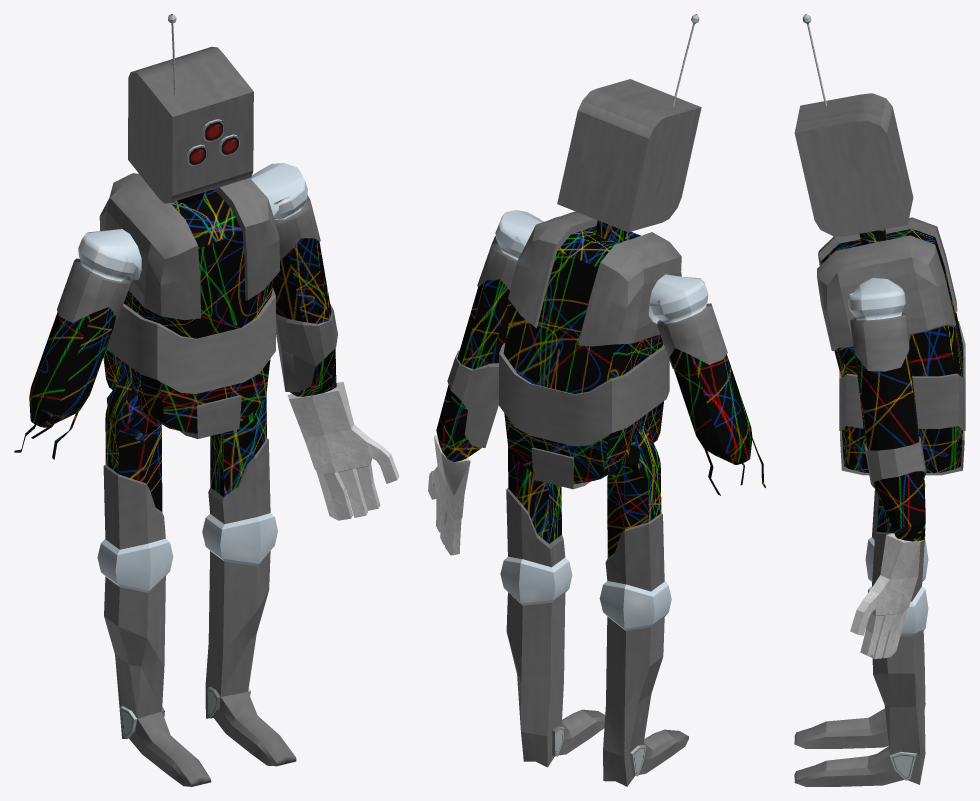
File: RobotIdle3.obj
3 views of the same model, side by side, from view 1: azimuth 30°, elevation 25°; view 2: azimuth 150°, elevation 25°; view 3: azimuth 270°, elevation 25° (orthographic). The views are drawn at different scales.
Visible parts, largest first — view 1: Robot; view 2: Robot; view 3: Robot.
Part boxes in pixels (<box>): Robot: <box>14,14,399,786</box>; Robot: <box>428,14,765,786</box>; Robot: <box>794,14,965,786</box>.
Bounding box in the file's own units: 7.79 × 15.55 × 3.36.
